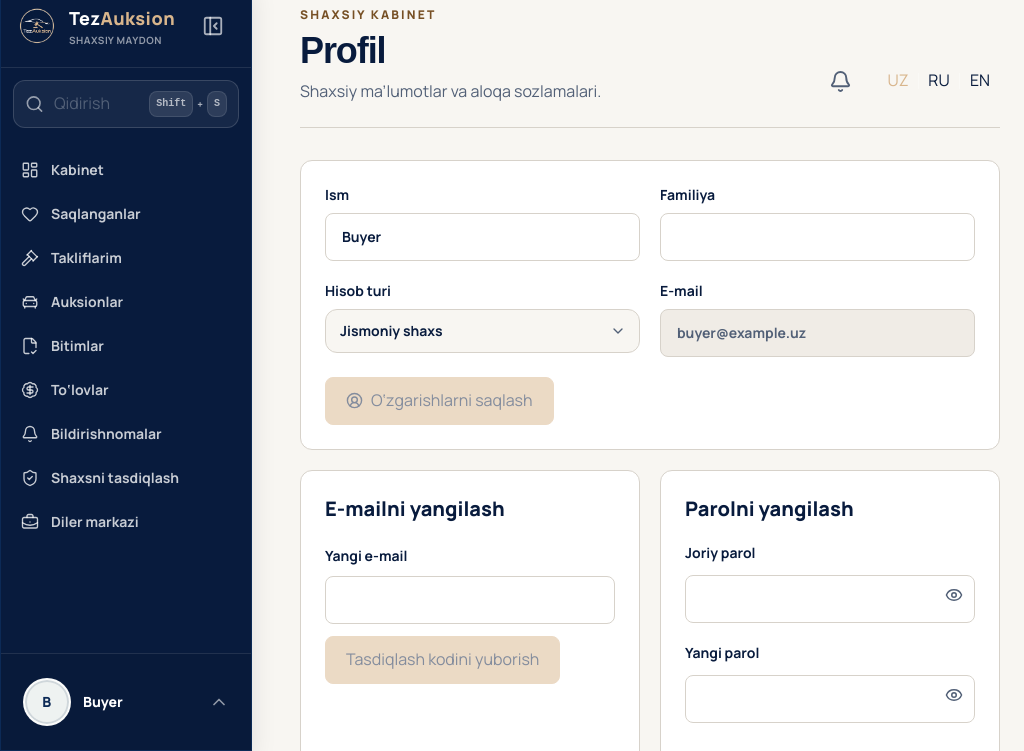
Test: CabinetRouter access, routes, and production integrity › requires explicit OK for password request and verification callbacks
The image size is (1024, 751).
In the password field labelled "Joriy parol": (830, 599) [685,575,975,623], type "old-password"
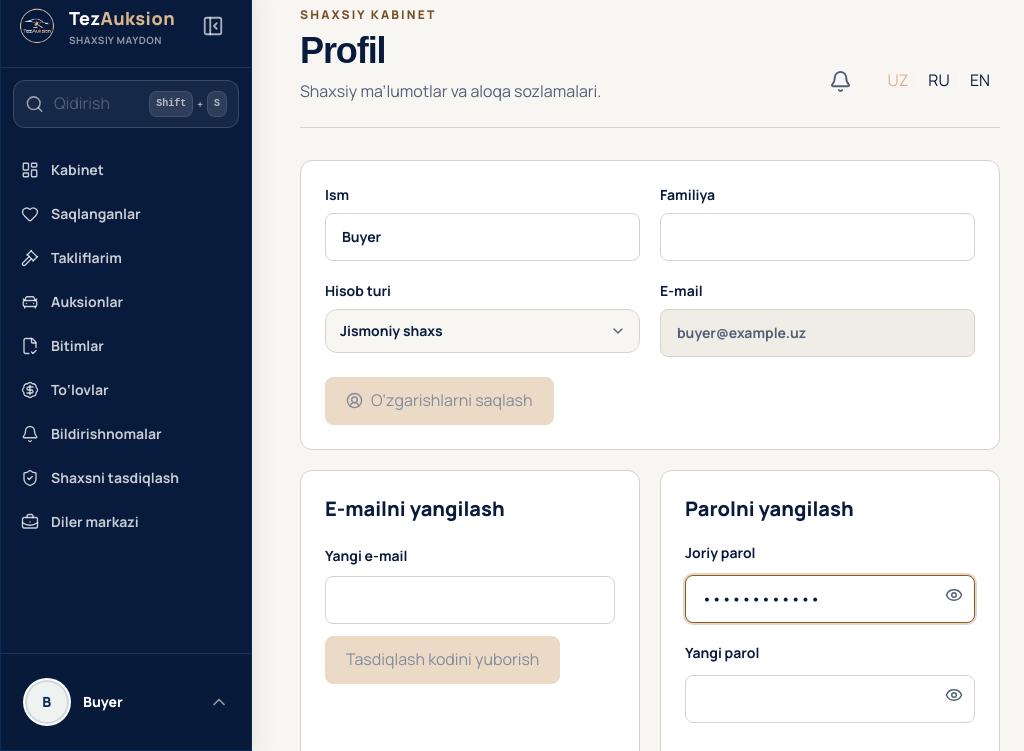
In the password field labelled "Yangi parol": (830, 699) [685,675,975,723], type "new-password"
(page scrolled)
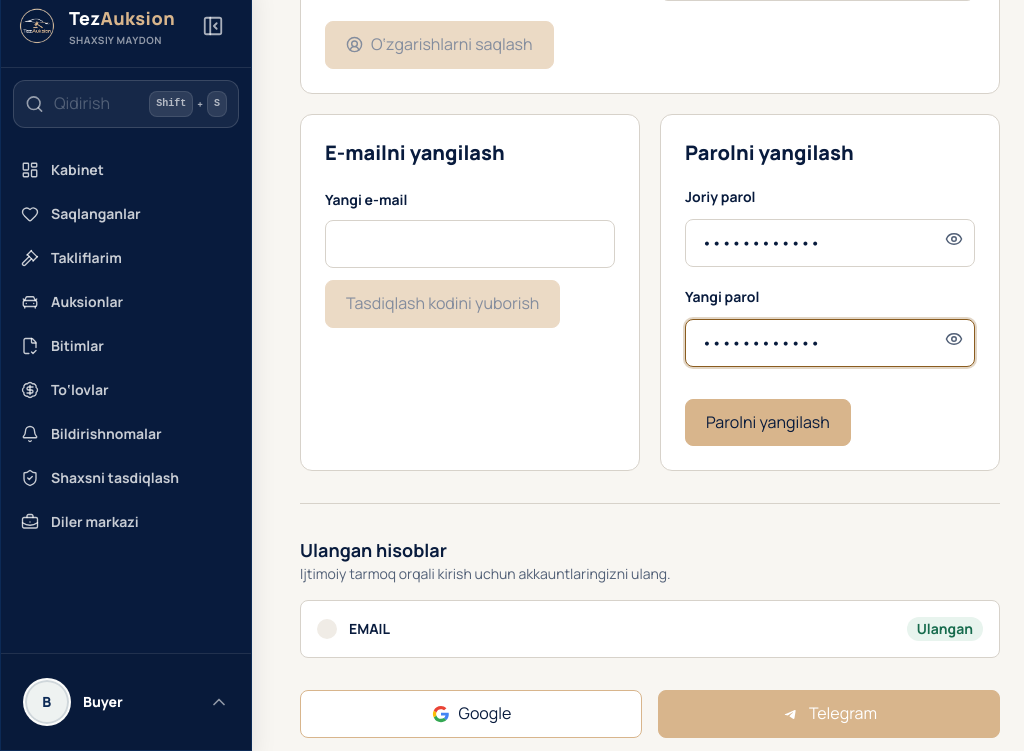
Click the button "Parolni yangilash": click(768, 422) [685,399,851,446]
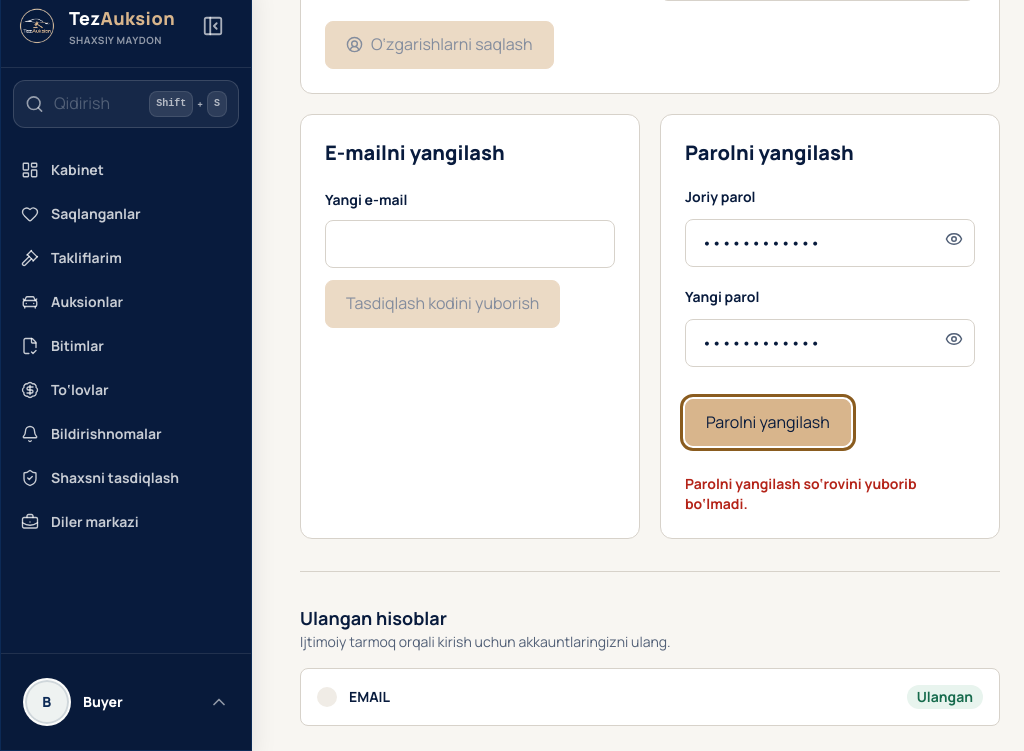
Expected: the message reads "Parolni yangilash so‘rovini yuborib bo‘lmadi.", [685,474,917,513]
Click the button "Parolni yangilash": click(768, 422) [685,399,851,446]
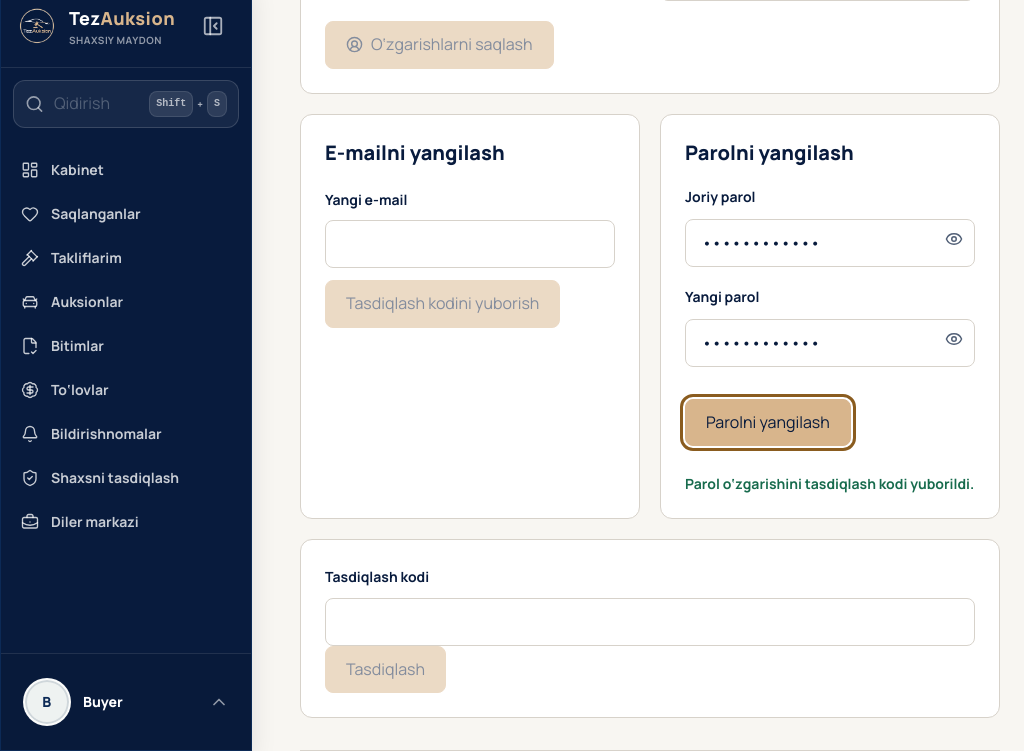
In the field labelled "Tasdiqlash kodi": (650, 622) [325,598,975,646], type "222222"
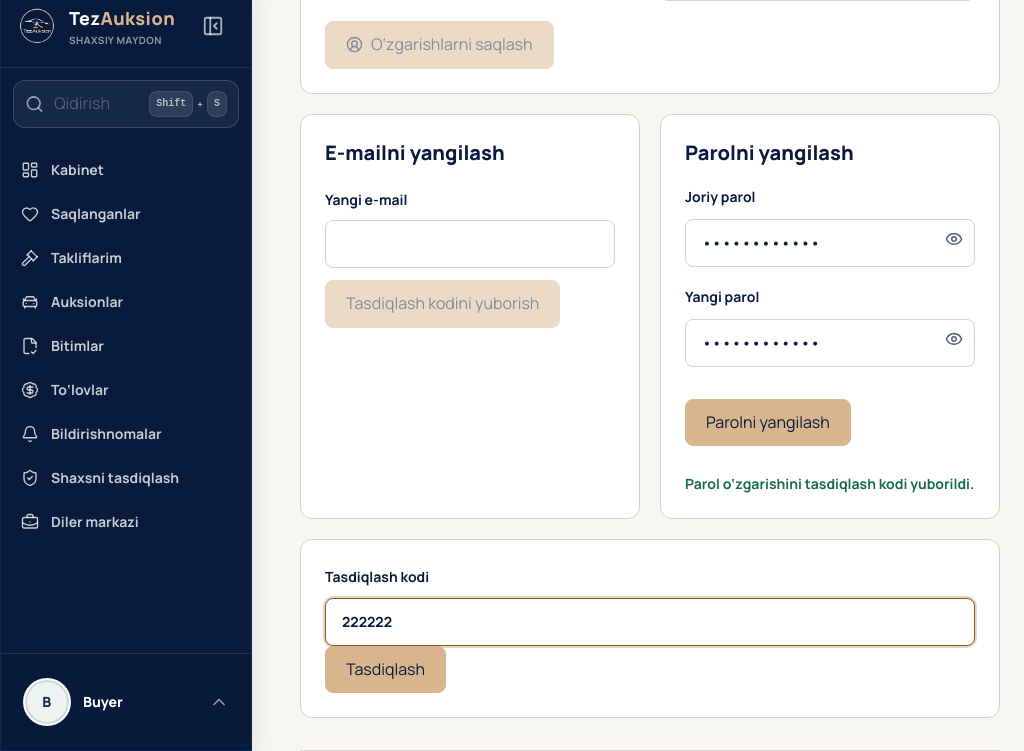
Click the button "Tasdiqlash": click(385, 670) [325,646,446,693]
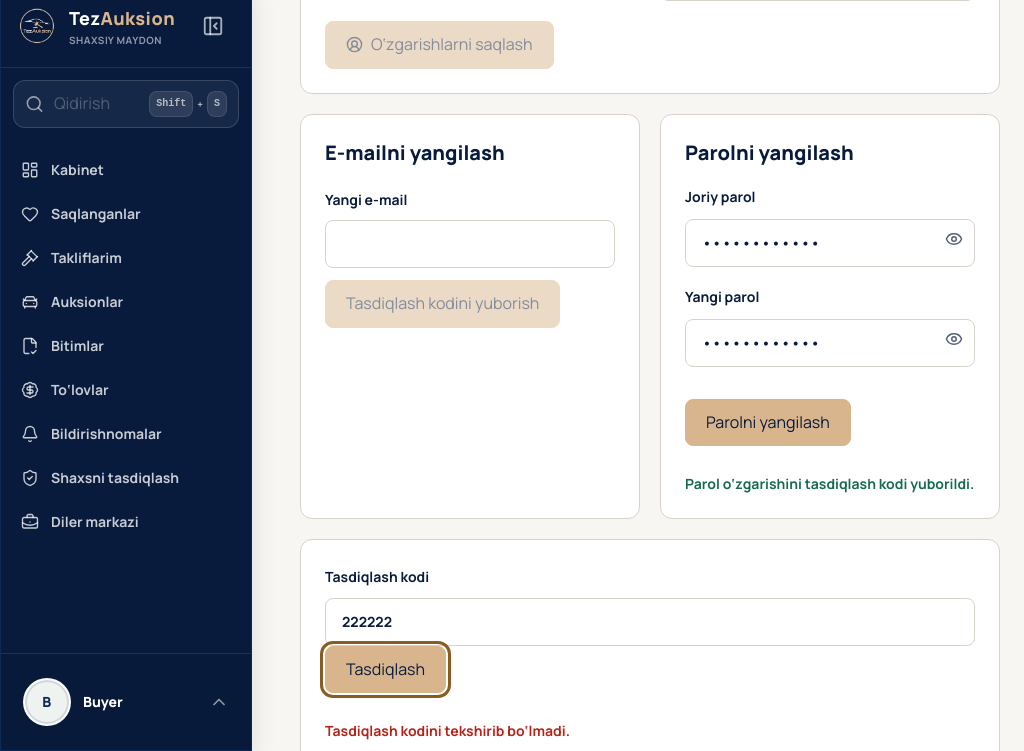
Expected: the message "Tasdiqlash kodini tekshirib bo‘lmadi." is shown, [325,721,570,740]
